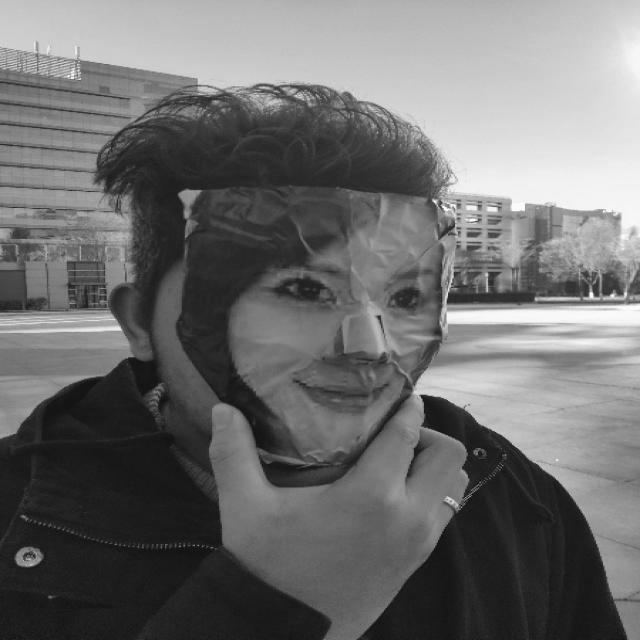fake: (120, 78, 463, 468)
